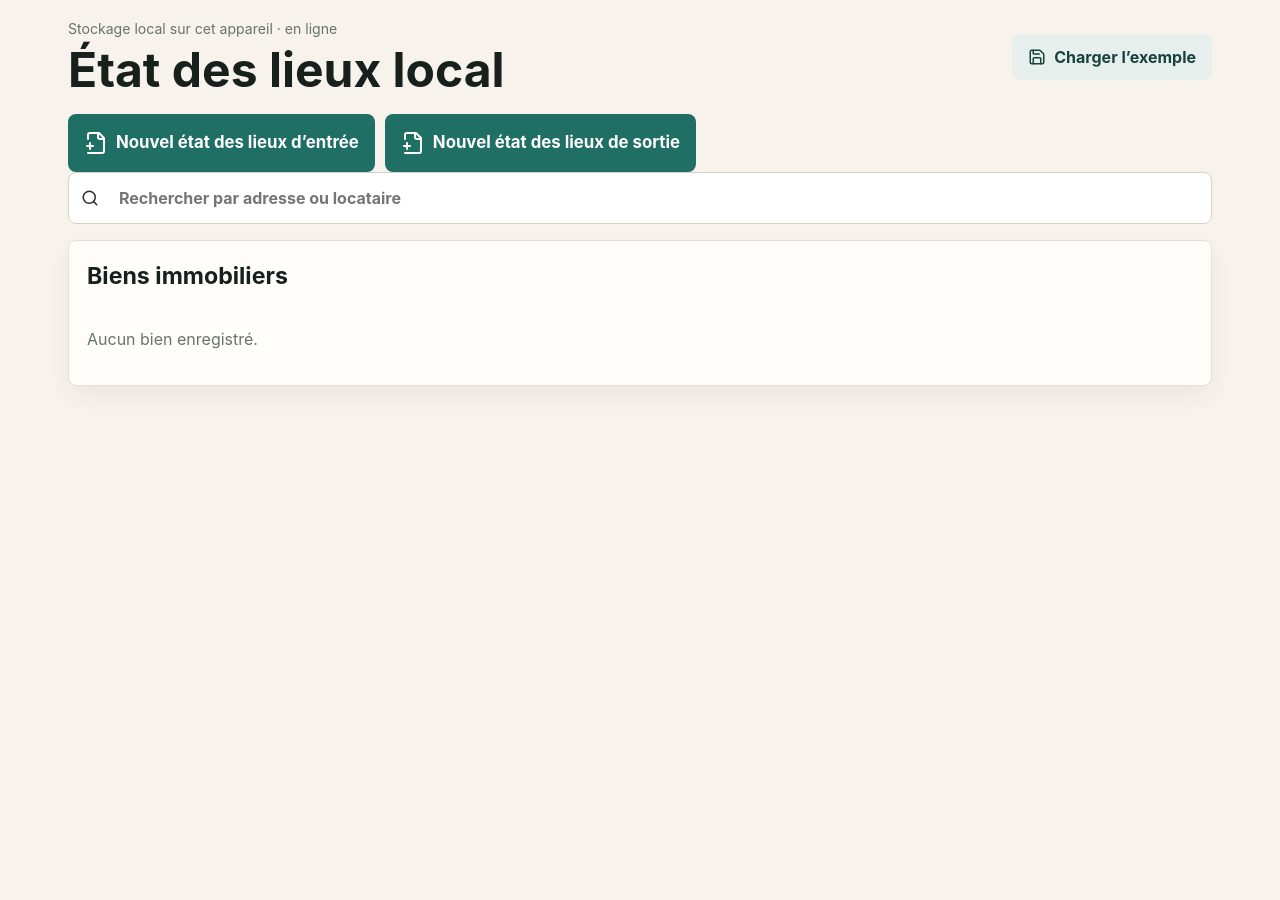
Test case: application état des lieux › crée un dossier et sauvegarde un brouillon reprenable
Click the button "Nouvel état des lieux d’entrée".
click(221, 142)  # box [68,114,375,172]
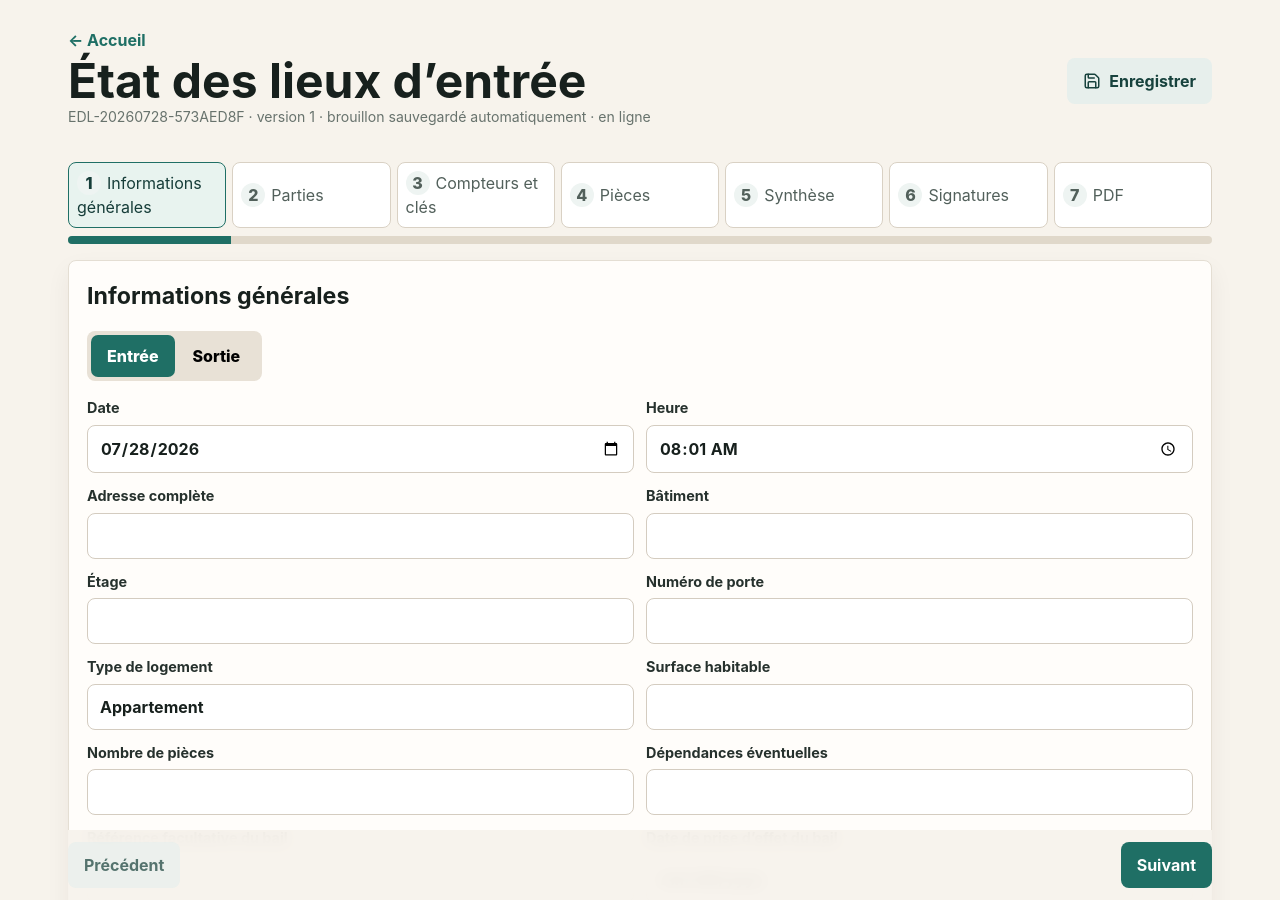
Type "10 rue Test, 75000 Exemple" into the field labelled "Adresse complète".
click(360, 536); type("10 rue Test, 75000 Exemple")  # box [87,512,634,558]
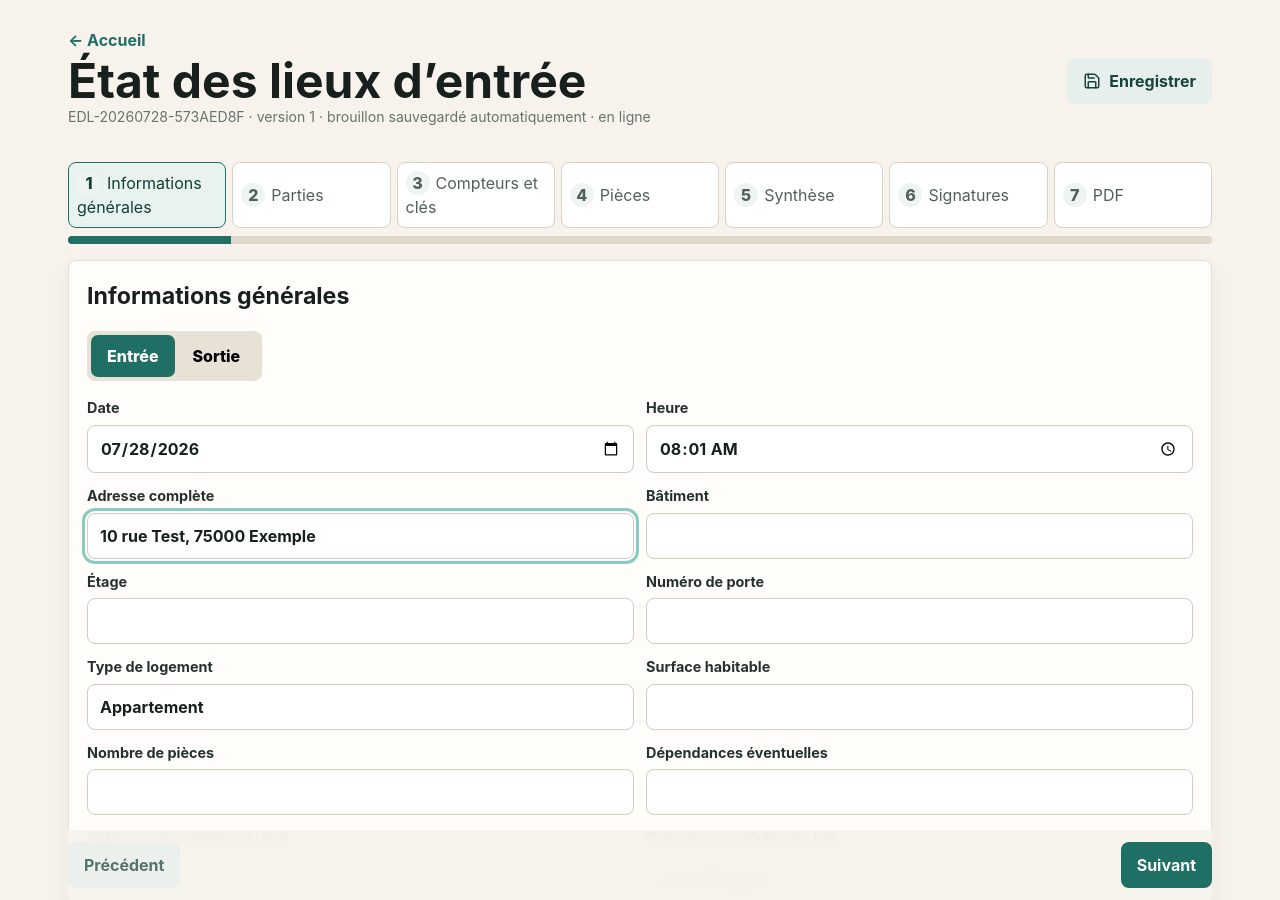
Expected: the text "brouillon sauvegardé automatiquement" is shown, [327,108,586,125]
Click the button "← Accueil".
click(107, 42)  # box [68,28,146,56]
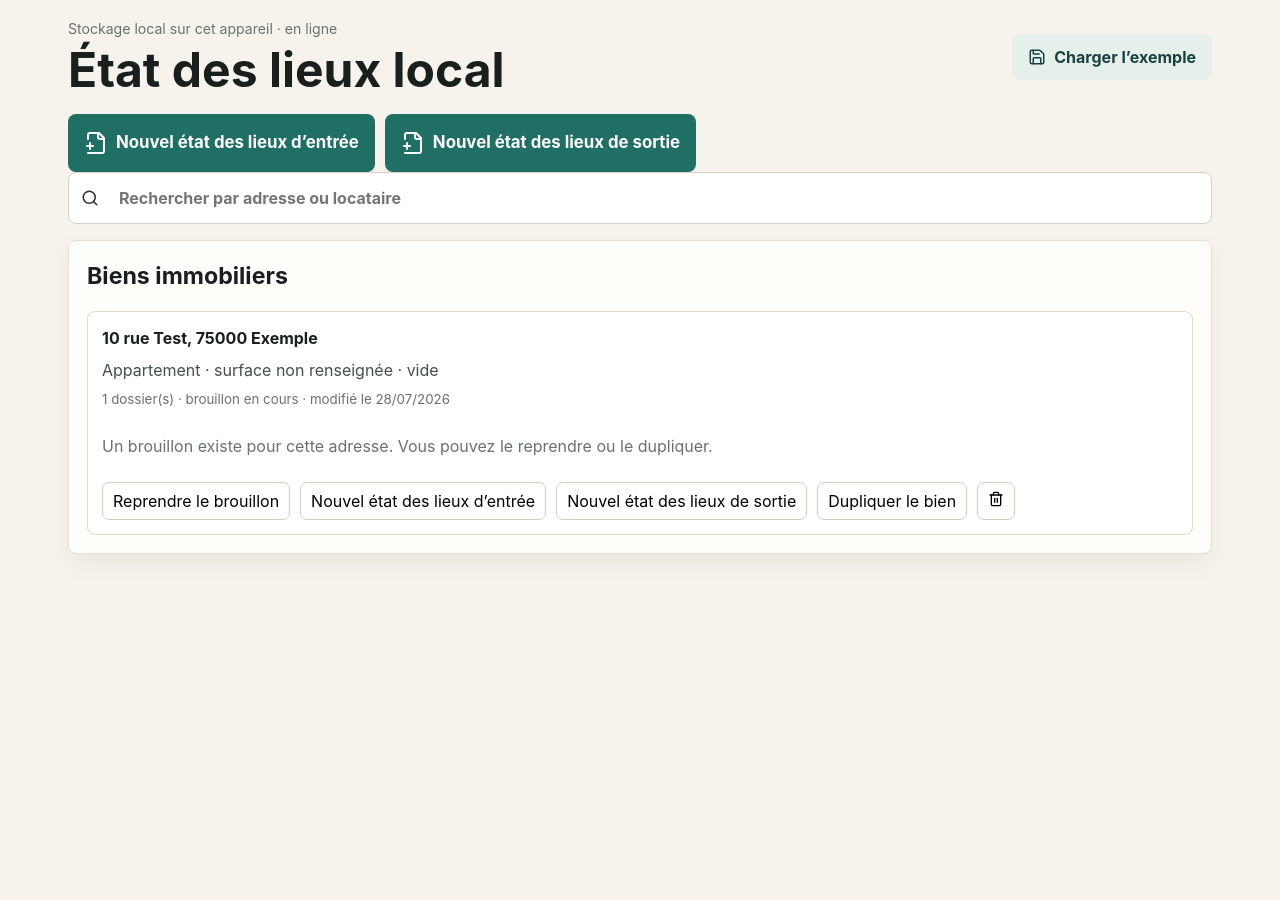
Expected: the text "10 rue Test, 75000 Exemple" is shown, [102,328,318,348]
